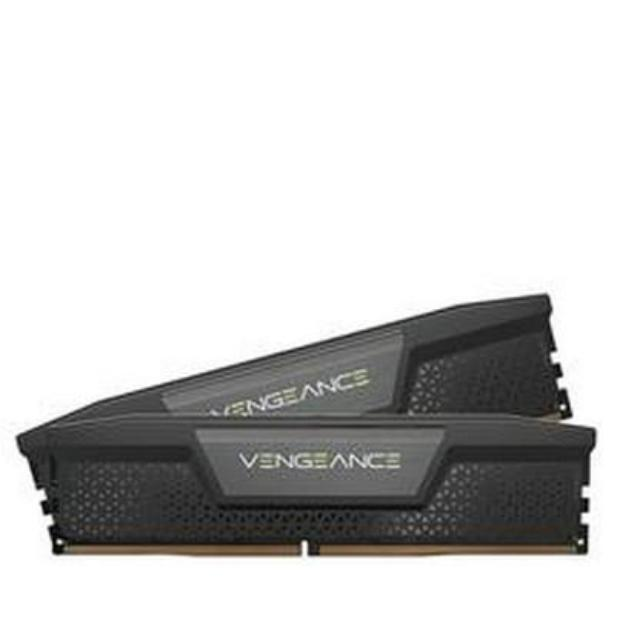RAM: (0, 290, 603, 588)
